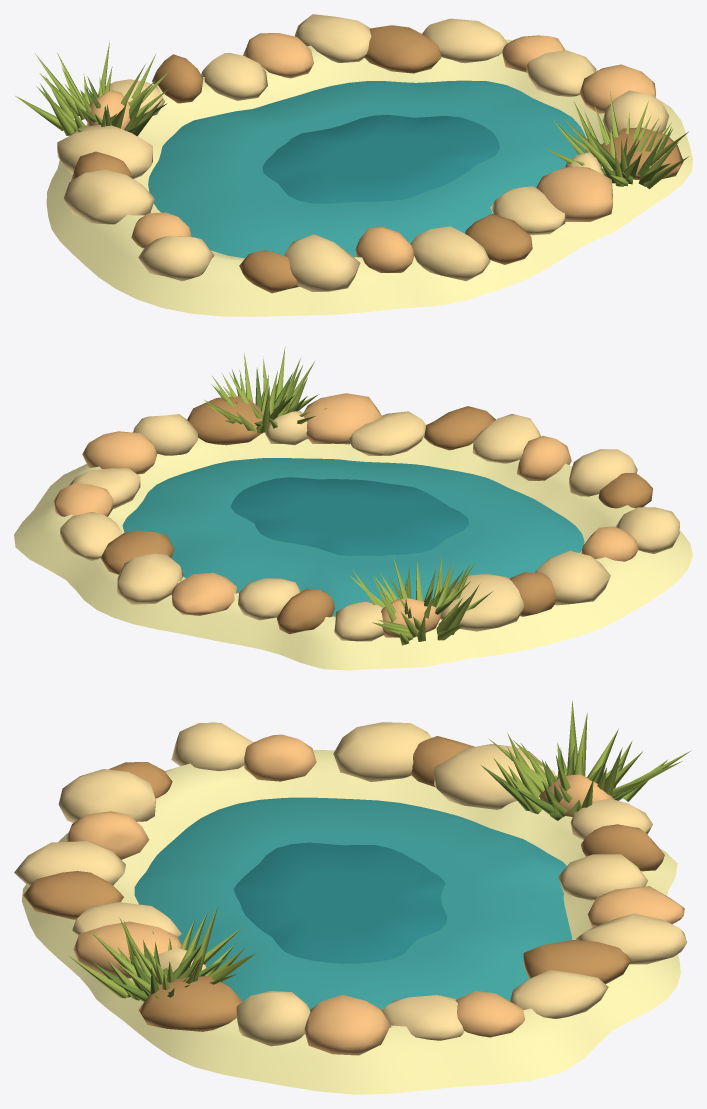
Rendered from detail_oasis_pool.glb.
3 renders of one model, top to bottom at view 1: azimuth 30°, elevation 25°; view 2: azimuth 150°, elevation 25°; view 3: azimuth 270°, elevation 25°, orthographic. The views are drawn at different scales.
Visible parts, largest first — view 1: stone, plaster, object 3, object 4; view 2: stone, plaster, object 3, object 4; view 3: stone, plaster, object 3, object 4.
Boxes of the visible parts, box(x1,y1,x2,y2) form: stone: box(57, 14, 683, 293); plaster: box(15, 39, 692, 316); object 3: box(148, 80, 586, 258); object 4: box(262, 114, 499, 203); stone: box(54, 393, 679, 641); plaster: box(14, 346, 692, 670); object 3: box(122, 458, 584, 616); object 4: box(230, 477, 468, 555); stone: box(14, 722, 687, 1055); plaster: box(22, 700, 691, 1094); object 3: box(134, 797, 571, 1009); object 4: box(233, 842, 446, 963).
Size of the model in its own units: 1.4 by 0.2 by 1.2.
